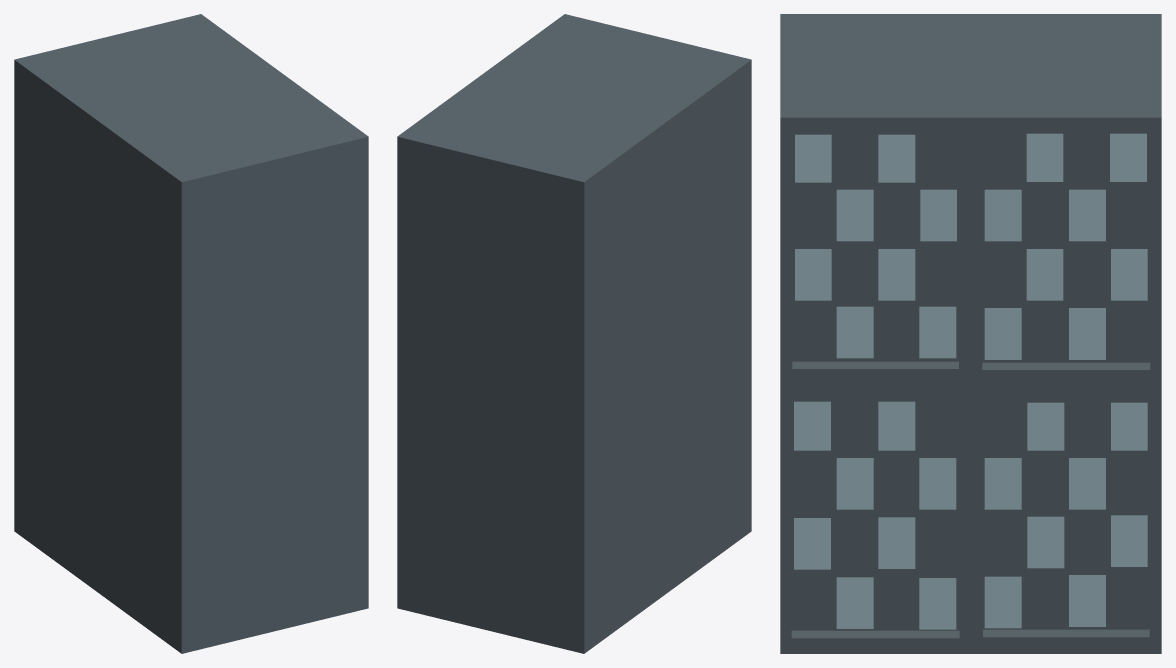
File: City Buildings.glb
The picture shows the model from 3 angles, left to right: view 1: azimuth 30°, elevation 25°; view 2: azimuth 150°, elevation 25°; view 3: azimuth 270°, elevation 25°; orthographic projection. The views are drawn at different scales.
Visible parts, largest first — view 1: Cube.001; view 2: Cube.001; view 3: Cube.001.
Part boxes in pixels (bbox=[...]): Cube.001: bbox=[14, 14, 368, 653]; Cube.001: bbox=[397, 14, 751, 653]; Cube.001: bbox=[780, 14, 1161, 653].
Size of the model in its own units: 3.12 by 7.51 by 4.84.
